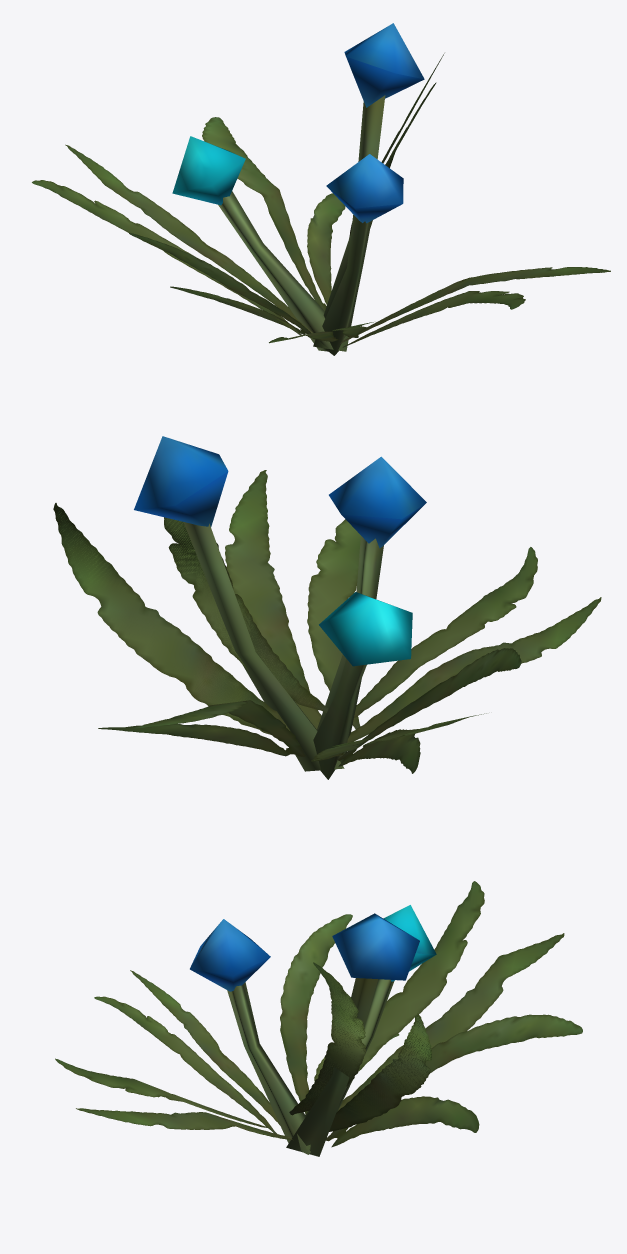
Rendered from flower_D.fbx.
The picture shows the model from 3 angles, top to bottom: view 1: azimuth 30°, elevation 25°; view 2: azimuth 150°, elevation 25°; view 3: azimuth 270°, elevation 25°; orthographic projection. The views are drawn at different scales.
Visible parts, largest first — view 1: flower_D; view 2: flower_D; view 3: flower_D.
Boxes of the visible parts, x1,y1,x2,y2 form: flower_D: (32,23,610,355); flower_D: (53,436,601,779); flower_D: (55,881,582,1156).
Bounding box in the file's own units: 1.98 × 1.22 × 2.25.
